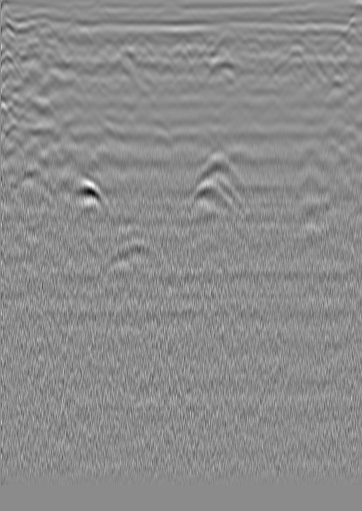가스: (69, 171, 112, 213)
상수: (303, 19, 323, 39)
오수: (30, 18, 50, 38)
우수: (185, 26, 205, 46)
